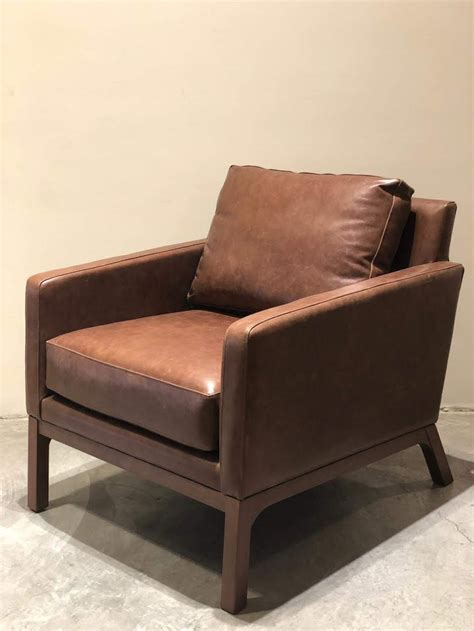cuero: (25, 163, 465, 499)
